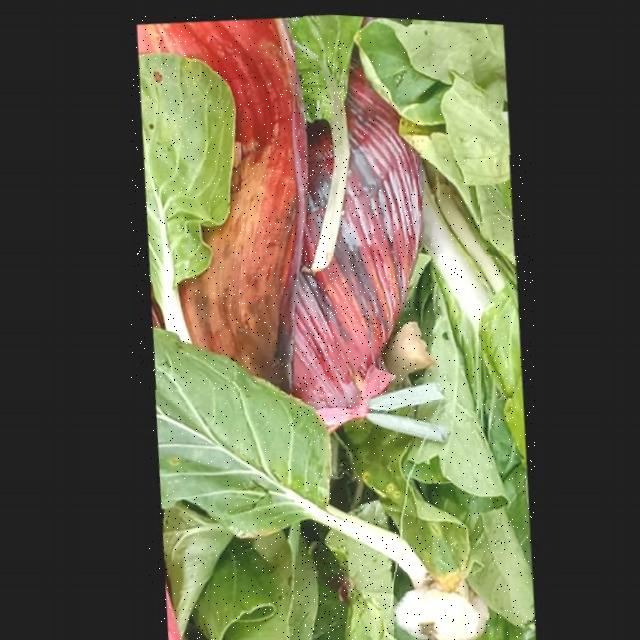biowaste: (149, 323, 428, 582), (130, 15, 303, 389), (290, 38, 419, 426), (419, 155, 531, 566), (411, 256, 535, 621), (132, 48, 230, 336), (347, 13, 506, 190), (162, 499, 317, 640), (328, 412, 465, 571), (297, 516, 399, 640), (395, 572, 490, 640), (395, 613, 536, 640)
